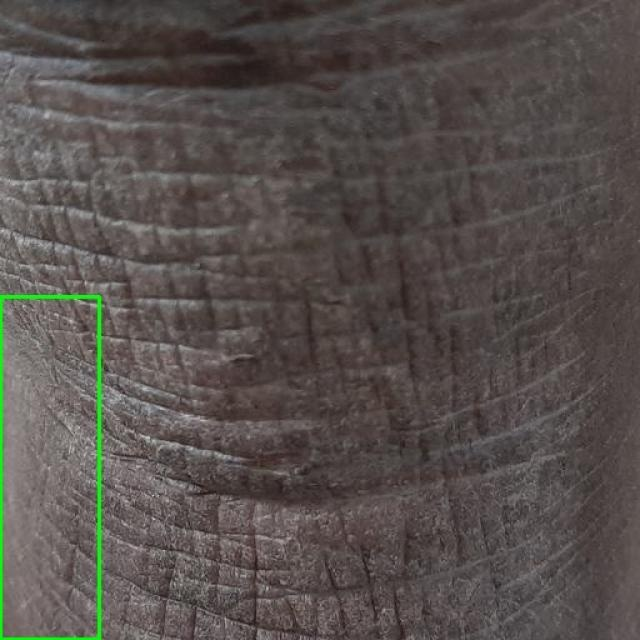Eczema: (0, 296, 99, 639)
